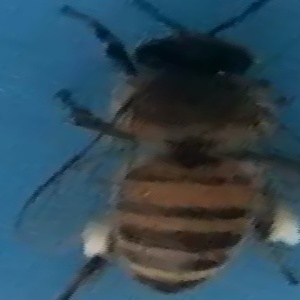bee: (45, 7, 298, 300)
